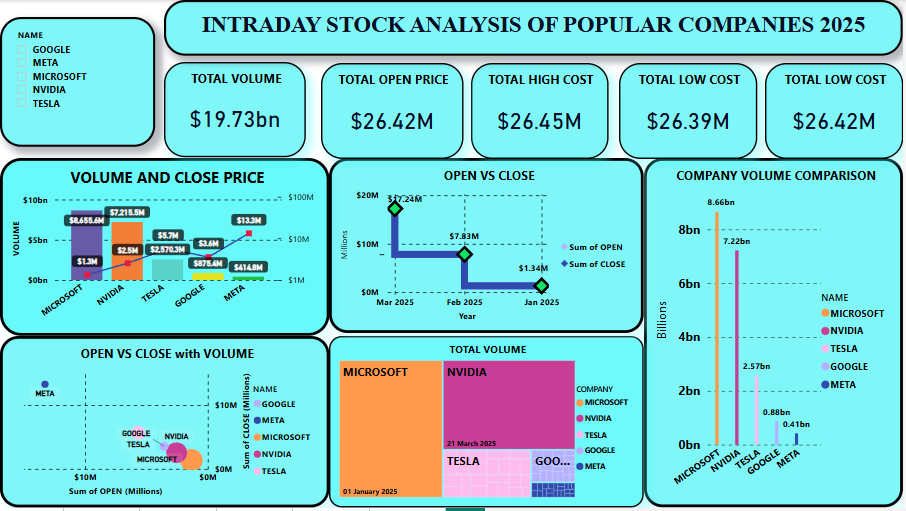

The page's visual inventory and layout, read from the dashboard file:
{"tool":"powerbi","page":{"name":"Page 6","canvas":[1280,720],"ordinal":0},"visuals":[{"type":"lineClusteredColumnComboChart","title":"VOLUME AND CLOSE PRICE","fields":{"Category":["popular_company_data.NAME"],"Y":["Sum(popular_company_data.VOLUME)"],"Y2":["Sum(popular_company_data.CLOSE)"]},"box":[0,224.6,466.6,252],"z":0},{"type":"clusteredColumnChart","title":"COMPANY VOLUME COMPARISON","fields":{"Series":["popular_company_data.NAME"],"Category":["popular_company_data.NAME"],"Y":["Sum(popular_company_data.VOLUME)"]},"box":[913,224.6,367.2,495.4],"z":1000},{"type":"scatterChart","title":"OPEN VS CLOSE with VOLUME ","fields":{"X":["Sum(popular_company_data.OPEN)"],"Y":["Sum(popular_company_data.CLOSE)"],"Series":["popular_company_data.NAME"],"Size":["Sum(popular_company_data.VOLUME)"]},"box":[0,476.6,466.6,243.4],"z":2000},{"type":"treemap","title":"TOTAL VOLUME","fields":{"Group":["popular_company_data.NAME"],"Details":["popular_company_data.DATE"],"Values":["Sum(popular_company_data.VOLUME)"]},"box":[466.6,476.6,446.4,243.4],"z":3000},{"type":"lineChart","title":"OPEN VS CLOSE ","fields":{"Y":["Sum(popular_company_data.OPEN)","Sum(popular_company_data.CLOSE)"],"Category":["popular_company_data.DATE.Variation.Date Hierarchy.Year","popular_company_data.DATE.Variation.Date Hierarchy.Month"]},"box":[466.6,224.6,446.4,247.7],"z":4000},{"type":"card","title":"TOTAL HIGH COST ","fields":{"Values":["Sum(popular_company_data.HIGH)"]},"box":[667.9,88.7,194.5,135.9],"z":5000},{"type":"card","title":"TOTAL LOW COST","fields":{"Values":["Sum(popular_company_data.LOW)"]},"box":[876.7,88.7,195.9,135.9],"z":6000},{"type":"card","title":"TOTAL OPEN PRICE","fields":{"Values":["Sum(popular_company_data.OPEN)"]},"box":[454.8,88.7,201.7,135.9],"z":7000},{"type":"card","title":"TOTAL LOW COST","fields":{"Values":["Sum(popular_company_data.CLOSE)"]},"box":[1084.1,88.7,195.9,135.9],"z":8000},{"type":"card","title":"TOTAL VOLUME","fields":{"Values":["Sum(popular_company_data.VOLUME)"]},"box":[232.4,87.9,201.3,134.6],"z":9000},{"type":"slicer","fields":{"Values":["popular_company_data.NAME"]},"box":[0,24.1,219.7,184.3],"z":10000},{"type":"textbox","box":[233.1,0,1046.9,78.7],"z":11000}]}

Visuals, with their boxes in screenshot pixels (x1, y1, x2, y2), scaled from the page's 1280x720 canvas onto the 906x511 screenshot:
"VOLUME AND CLOSE PRICE" lineClusteredColumnComboChart: <box>0,159,330,338</box>
"COMPANY VOLUME COMPARISON" clusteredColumnChart: <box>646,159,905,510</box>
"OPEN VS CLOSE with VOLUME " scatterChart: <box>0,338,330,510</box>
"TOTAL VOLUME" treemap: <box>330,338,646,510</box>
"OPEN VS CLOSE " lineChart: <box>330,159,646,335</box>
"TOTAL HIGH COST " card: <box>473,63,610,159</box>
"TOTAL LOW COST" card: <box>621,63,759,159</box>
"TOTAL OPEN PRICE" card: <box>322,63,465,159</box>
"TOTAL LOW COST" card: <box>767,63,905,159</box>
"TOTAL VOLUME" card: <box>164,62,307,158</box>
slicer - popular_company_data.NAME: <box>0,17,156,148</box>
textbox: <box>165,0,905,56</box>
